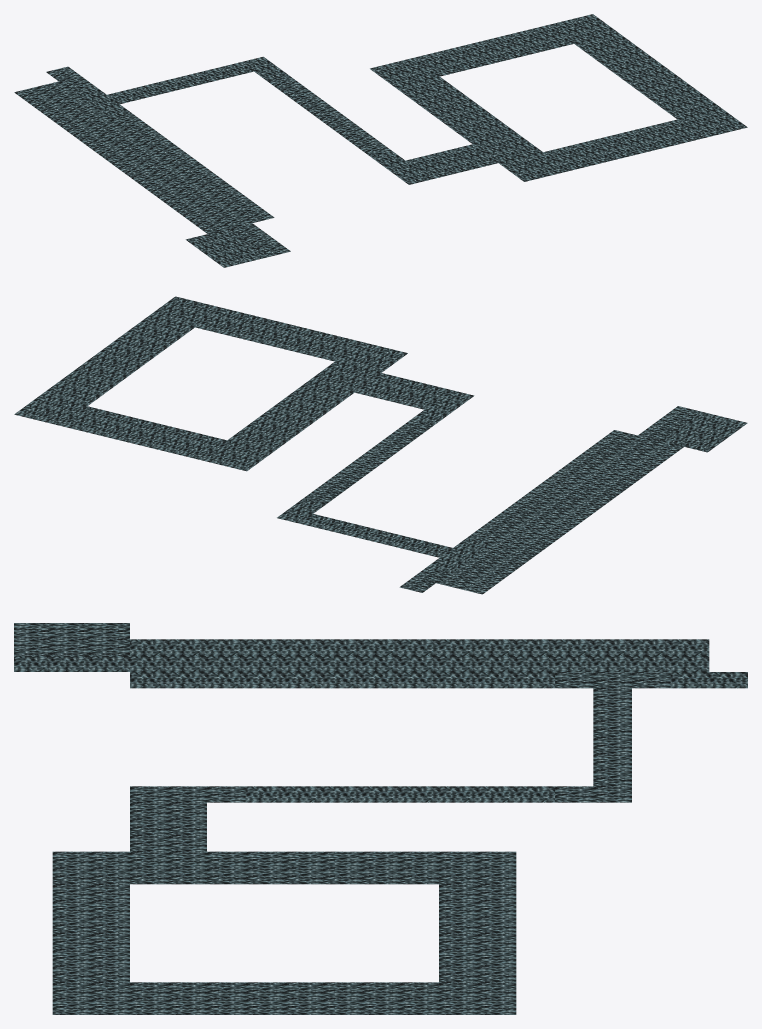
Rendered from OZ_28_kn_moat01A.glb.
3 views of the same model, one above another, from view 1: azimuth 30°, elevation 25°; view 2: azimuth 150°, elevation 25°; view 3: azimuth 270°, elevation 25° (orthographic). The views are drawn at different scales.
Parts seen in each view (by area): view 1: OM_28_kn_moat01A; view 2: OM_28_kn_moat01A; view 3: OM_28_kn_moat01A.
Part boxes in pixels (box(x1,y1,x2,y2)): OM_28_kn_moat01A: box(14, 14, 747, 267); OM_28_kn_moat01A: box(14, 296, 747, 594); OM_28_kn_moat01A: box(14, 623, 747, 1014).
Bounding box in the file's own units: 144 × 0.01 × 114.
1 material, 1 textured.
